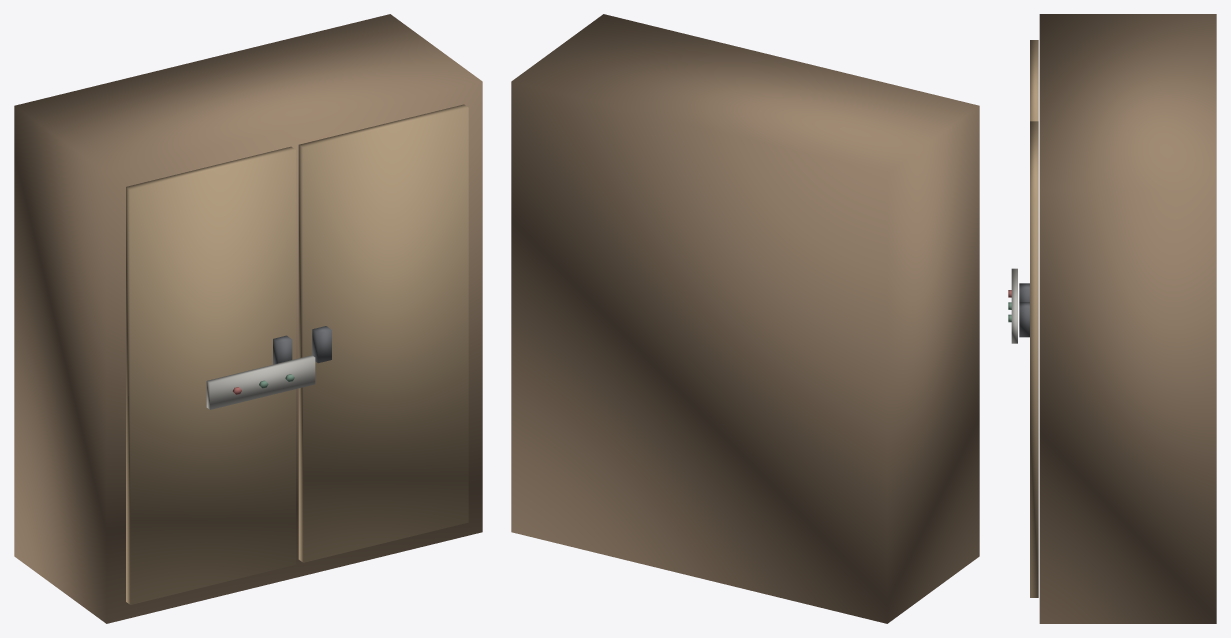
File: kitchen_base_cabinet__wide.glb
3 views of the same model, side by side, from view 1: azimuth 30°, elevation 25°; view 2: azimuth 150°, elevation 25°; view 3: azimuth 270°, elevation 25° (orthographic). The views are drawn at different scales.
Visible parts, largest first — view 1: world; view 2: world; view 3: world.
Boxes of the visible parts, box(x1,y1,x2,y2) form: world: box(14, 14, 482, 623); world: box(511, 14, 979, 623); world: box(1008, 14, 1216, 623).
Size of the model in its own units: 1.18 by 1.35 by 0.5885.
